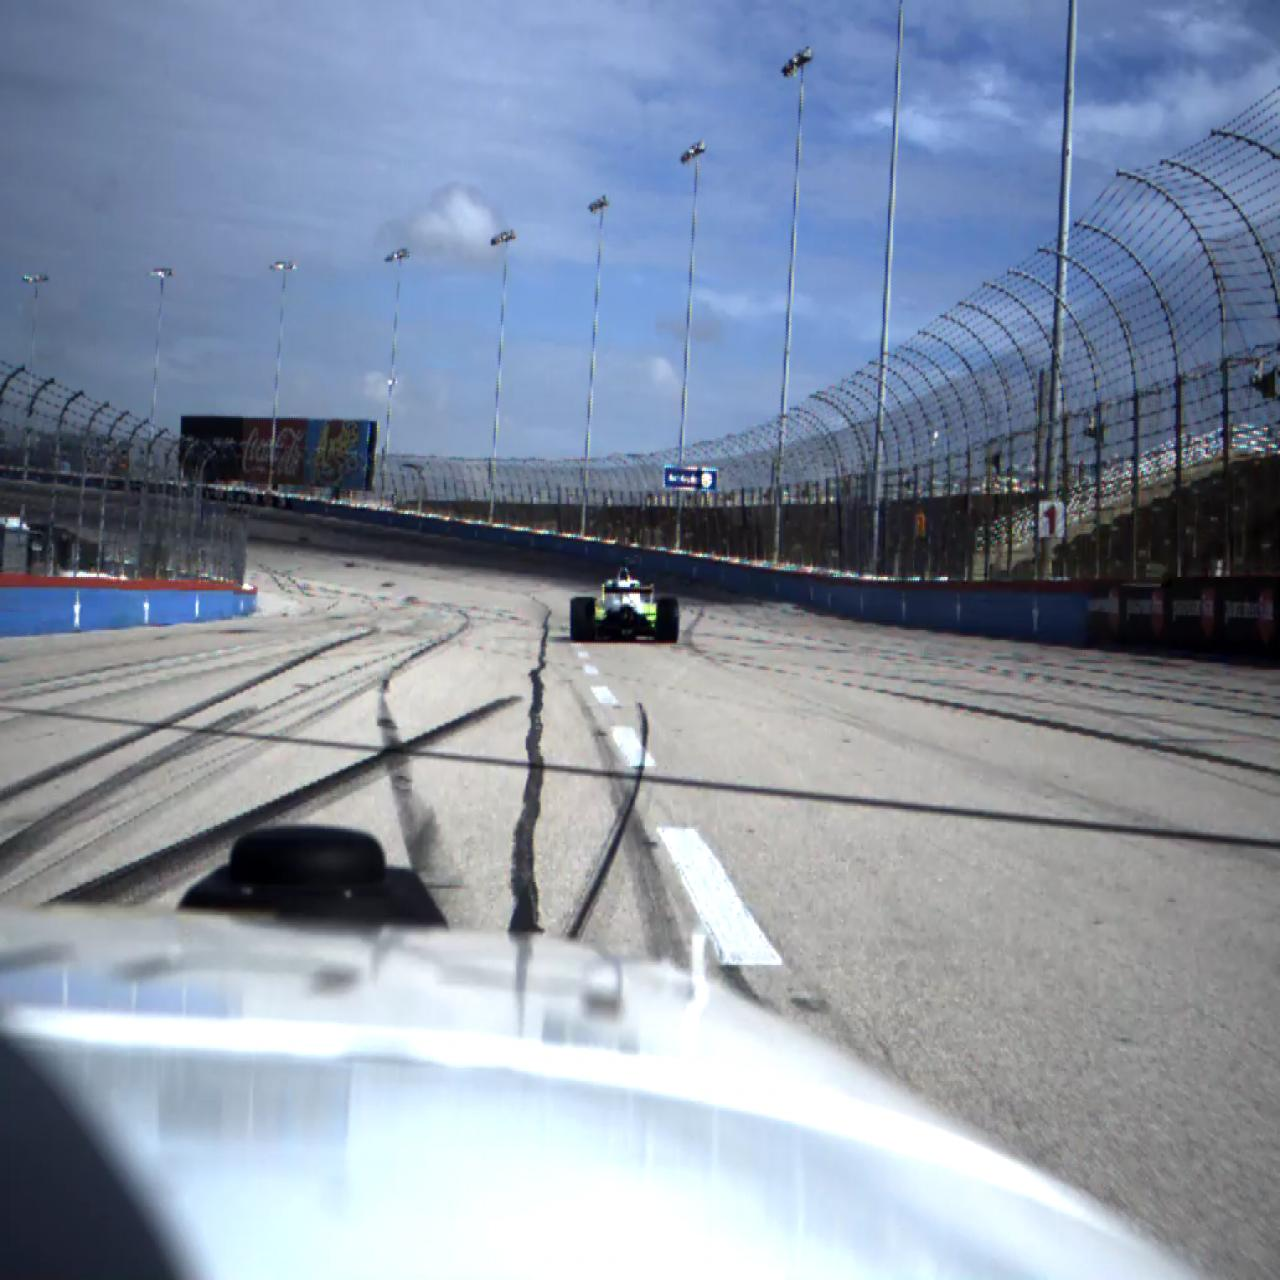AV: (570, 561, 681, 645)
Wheel: (571, 598, 595, 642), (656, 598, 680, 644)
